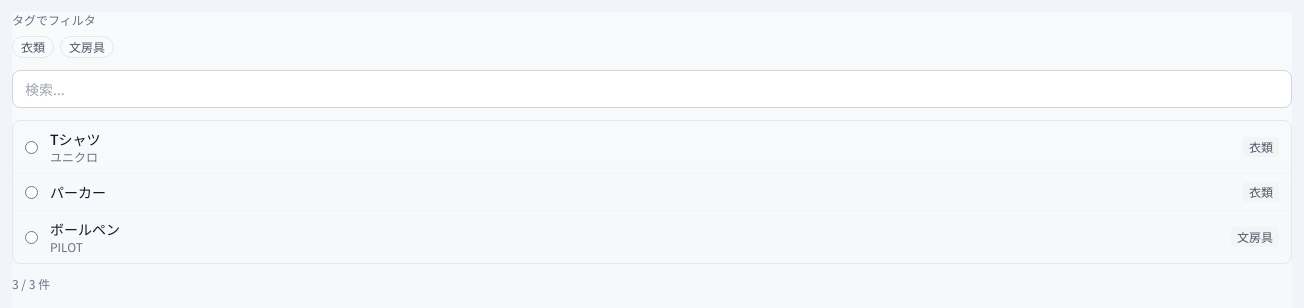
Scenario: ItemTypeSelector › should filter by manufacturer
Type "PILOT" into the field with placeholder "検索..." at (652, 89), box [12,70,1292,108]
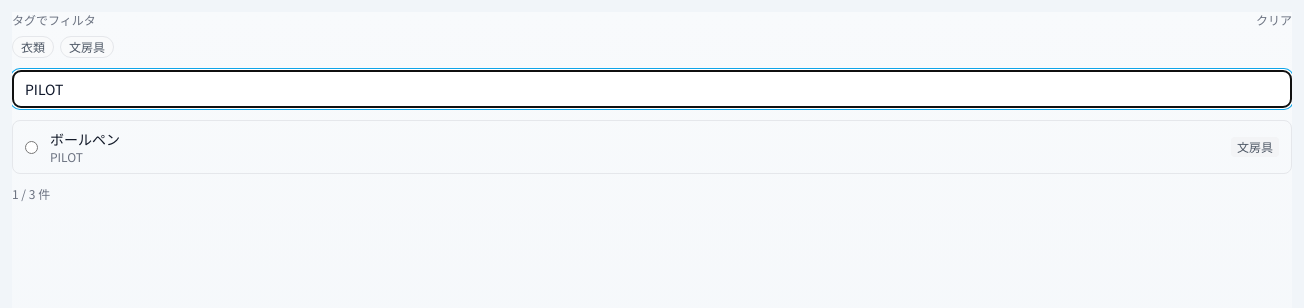
Check: the text "ボールペン" is shown, box [50,129,120,149]
Check: the text "Tシャツ" is gone
